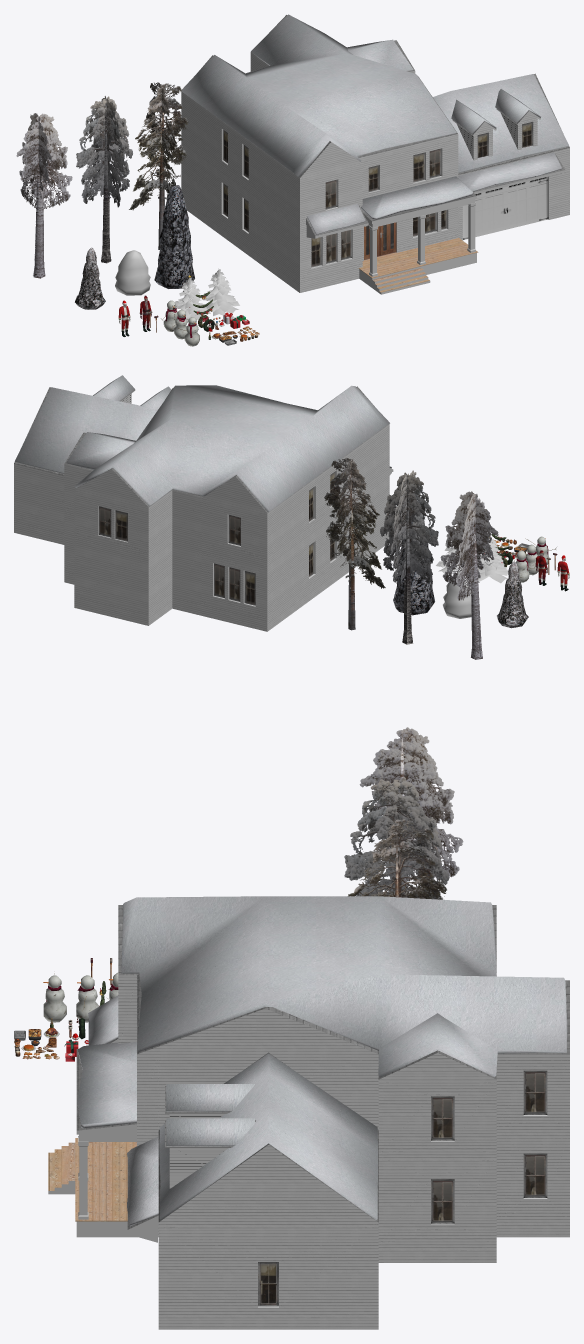
File: Christmas.fbx
3 renders of one model, top to bottom at view 1: azimuth 30°, elevation 25°; view 2: azimuth 150°, elevation 25°; view 3: azimuth 270°, elevation 25°, orthographic. The views are drawn at different scales.
Parts seen in each view (by area): view 1: House, Snow.001, Trees_02, Trees_01, Trees_03, Tree_N_P, Snow, Snow.005, Tree_N_01, Tree_N, Snow.003, Christmas_tree_01 (+3 smaller); view 2: House, Snow.001, Trees_02, Trees_03, Trees_01, Tree_N_P, Tree_N, Tree_N_01, Christmas_tree, Snow.004; view 3: House, Snow.001, Trees_02, Trees_01, Snow, Trees_03, Snow.005, Snow.004, Snow.002, Snow.003, Snowman.
Boxes of the visible parts, x1,y1,x2,y2 form: House: [181, 15, 569, 294]; Snow.001: [181, 14, 568, 176]; Trees_02: [76, 96, 132, 263]; Trees_01: [16, 113, 72, 278]; Trees_03: [129, 82, 188, 249]; Tree_N_P: [154, 185, 194, 288]; Snow: [361, 176, 472, 219]; Snow.005: [458, 152, 561, 191]; Tree_N_01: [115, 250, 150, 295]; Tree_N: [75, 247, 105, 309]; Snow.003: [307, 203, 365, 234]; Christmas_tree_01: [202, 268, 239, 315]; House: [14, 386, 393, 631]; Snow.001: [15, 385, 389, 511]; Trees_02: [380, 470, 438, 644]; Trees_03: [324, 458, 385, 630]; Trees_01: [440, 491, 498, 659]; Tree_N_P: [393, 521, 434, 615]; Tree_N: [497, 561, 528, 628]; Tree_N_01: [443, 571, 471, 618]; Christmas_tree: [478, 537, 508, 583]; Snow.004: [93, 375, 135, 401]; House: [48, 905, 569, 1329]; Snow.001: [121, 896, 567, 1220]; Trees_02: [344, 777, 449, 899]; Trees_01: [359, 727, 463, 892]; Snow: [77, 1042, 136, 1128]; Trees_03: [348, 819, 446, 899]; Snow.005: [127, 1136, 158, 1226]; Snow.004: [166, 1118, 254, 1146]; Snow.002: [166, 1084, 254, 1111]; Snow.003: [88, 995, 118, 1045]; Snowman: [43, 973, 66, 1022].
Bounding box in the file's own units: 2970 × 984 × 1869.
